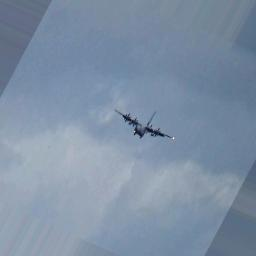Airplane: (114, 108, 175, 142)
